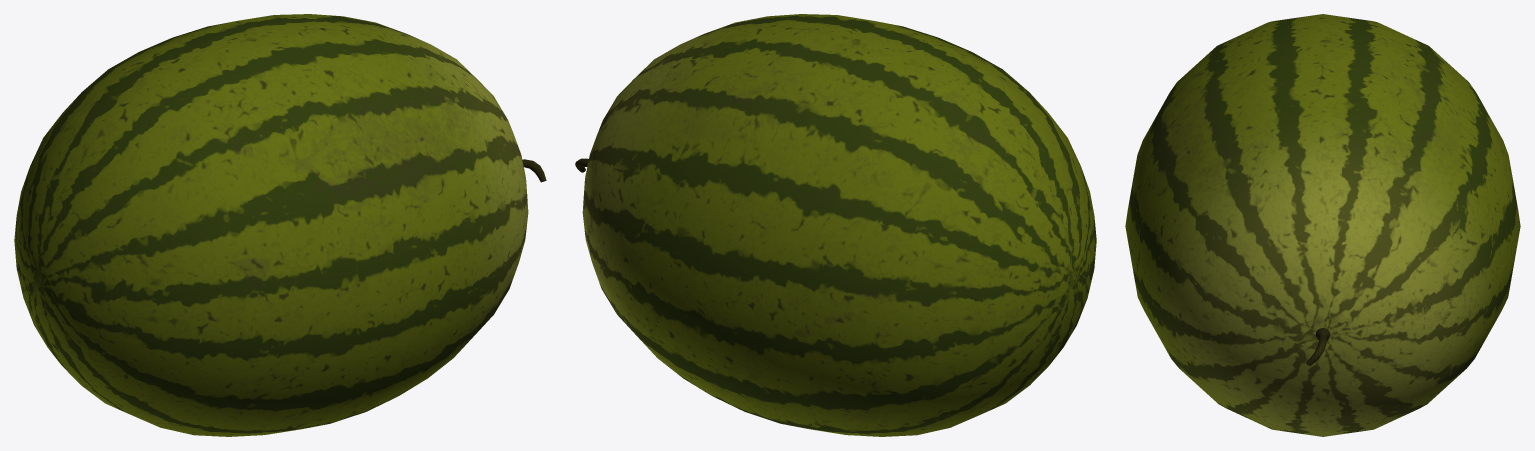
3 renders of one model, left to right at view 1: azimuth 30°, elevation 25°; view 2: azimuth 150°, elevation 25°; view 3: azimuth 270°, elevation 25°, orthographic. The views are drawn at different scales.
Parts seen in each view (by area): view 1: Watermelon; view 2: Watermelon; view 3: Watermelon.
Part boxes in pixels (bbox=[...]): Watermelon: bbox=[14, 14, 546, 436]; Watermelon: bbox=[575, 14, 1096, 436]; Watermelon: bbox=[1125, 14, 1520, 436].
Bounding box in the file's own units: 0.3938 × 0.2853 × 0.2854.
1 material, 1 textured.
